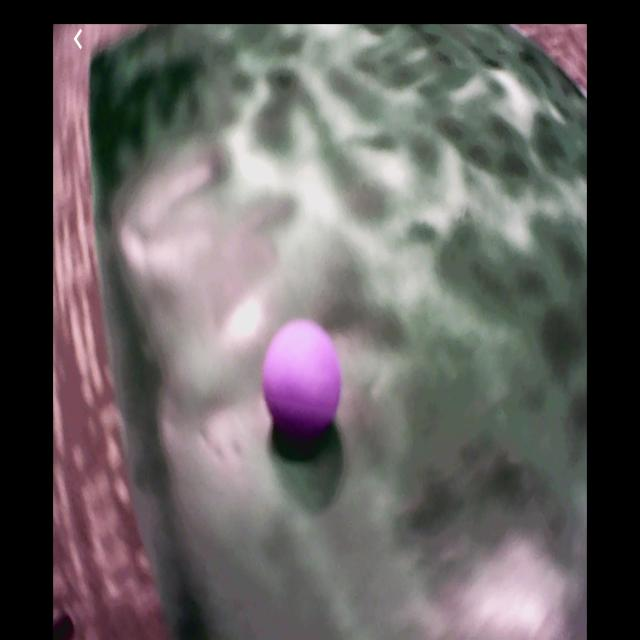ball: (263, 321, 341, 434)
